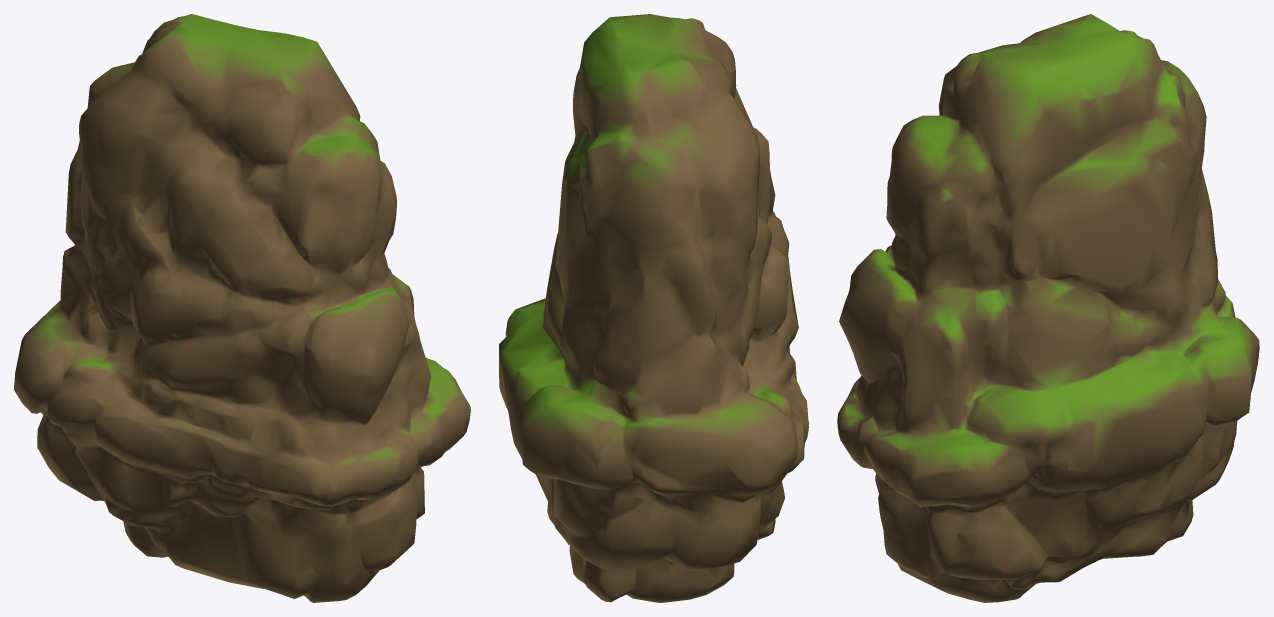
The model's file is cell_x2_z5_render.gltf.
3 renders of one model, left to right at view 1: azimuth 30°, elevation 25°; view 2: azimuth 150°, elevation 25°; view 3: azimuth 270°, elevation 25°, orthographic.
Visible parts, largest first — view 1: SM_ENV_cliff_castle_02_LOD0.018; view 2: SM_ENV_cliff_castle_02_LOD0.018; view 3: SM_ENV_cliff_castle_02_LOD0.018.
Part boxes in pixels (x1=…): SM_ENV_cliff_castle_02_LOD0.018: x1=14, y1=14, x2=470, y2=602; SM_ENV_cliff_castle_02_LOD0.018: x1=499, y1=14, x2=808, y2=602; SM_ENV_cliff_castle_02_LOD0.018: x1=837, y1=14, x2=1259, y2=602.
Bounding box in the file's own units: 77.91 × 115 × 82.84.
